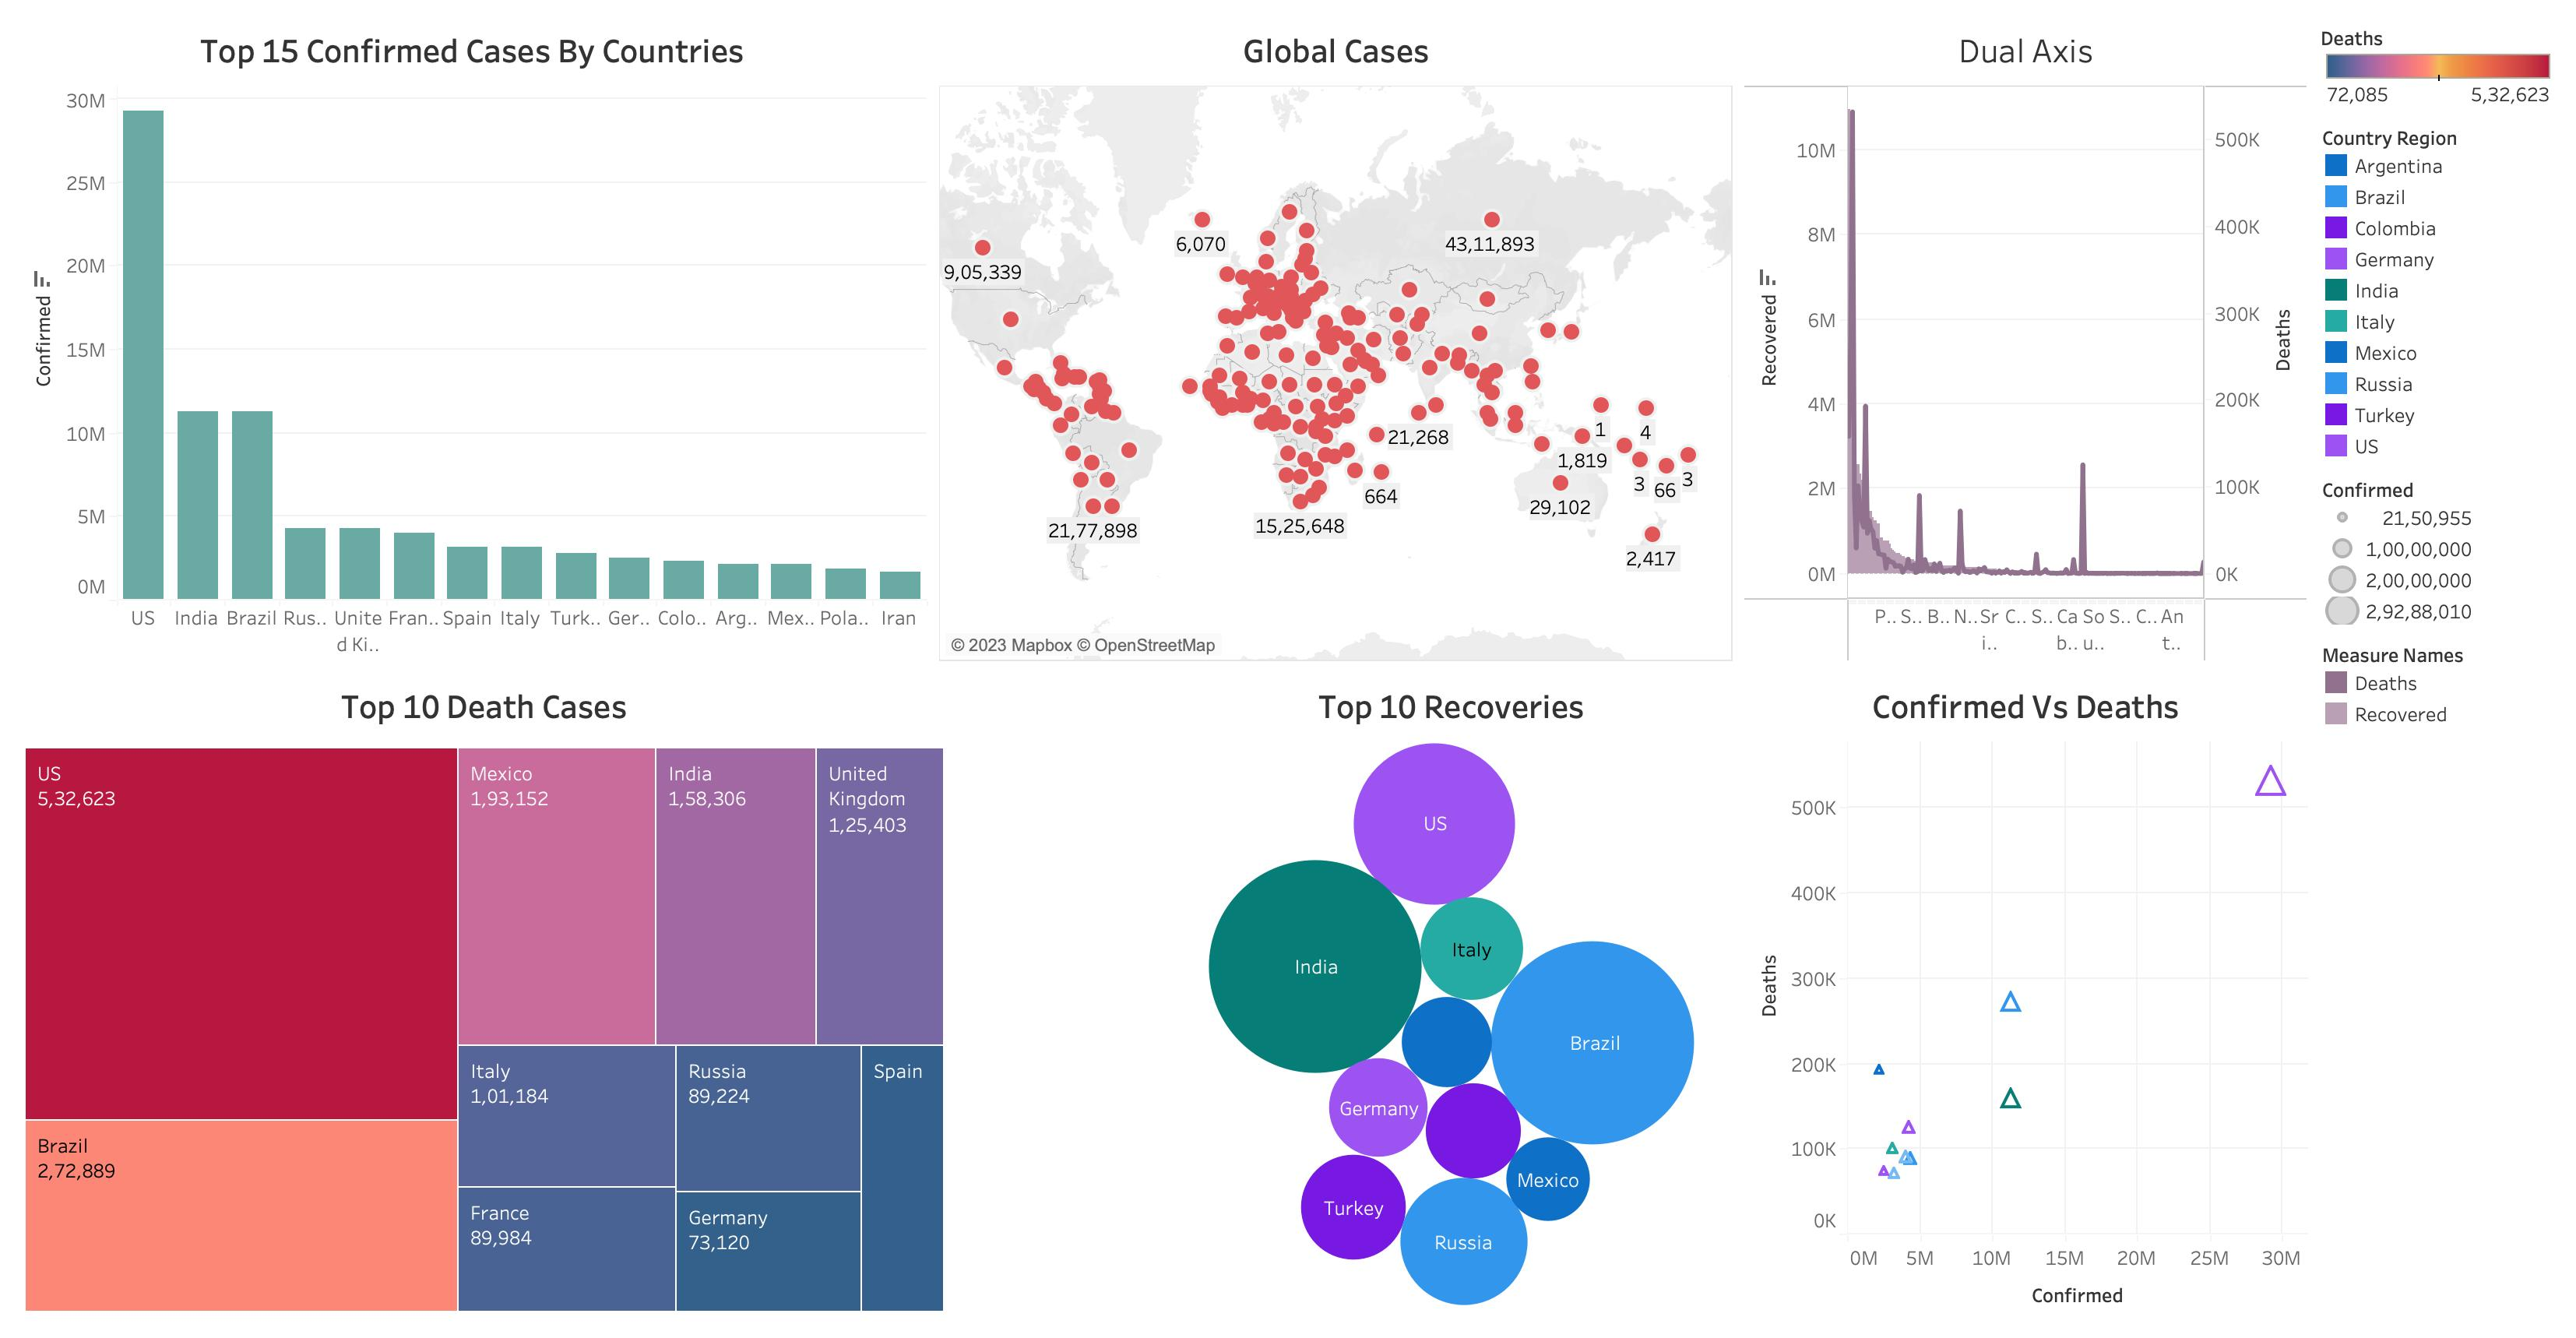

Layout of this report page (visuals, bound fields, positions):
{"tool":"tableau","page":{"name":"Dashboard 1","canvas":[1000,1000],"units":"permille","ordinal":0},"visuals":[{"type":"worksheet","title":"Top 15 Confirmed Cases By Countries","mark":"Automatic","rows":["Confirmed"],"cols":["Country Region"],"box":[4.8,9.3,357.3,490.7]},{"type":"worksheet","title":"Global Cases","mark":"Automatic","box":[362.1,9.3,312.9,490.7]},{"type":"worksheet","title":"Dual Axis","mark":"Line","rows":["Recovered","Deaths"],"cols":["Country Region"],"box":[675,9.3,223.4,490.7]},{"type":"legend","title":"Top 10 Death Cases","param":"[federated.0nfhav30ayvkzn19kb86j0pejryx].[sum:Deaths:qk]","box":[898.4,9.3,96.7,75.7]},{"type":"legend","title":"Recovery Cases","param":"[federated.0nfhav30ayvkzn19kb86j0pejryx].[none:Country Region:nk]","box":[898.4,85,96.7,263.1]},{"type":"legend","title":"Confirmed Vs Deaths","param":"[federated.0nfhav30ayvkzn19kb86j0pejryx].[sum:Confirmed:qk]","box":[898.4,348.1,96.7,123.4]},{"type":"legend","title":"Dual Axis","param":"[federated.0nfhav30ayvkzn19kb86j0pejryx].[:Measure Names]","box":[898.4,471.5,96.7,76.8]},{"type":"worksheet","title":"Top 10 Death Cases","mark":"Automatic","box":[4.8,500,402.7,490.7]},{"type":"worksheet","title":"Recovery Cases","mark":"Circle","box":[407.5,500,267.5,490.7]},{"type":"worksheet","title":"Confirmed Vs Deaths","mark":"Automatic","rows":["Deaths"],"cols":["Confirmed"],"box":[675,500,223.4,490.7]}]}

Visuals, with their boxes on the dashboard's canvas, which has no fixed pixel size, in thousandths of its width and height (x1, y1, x2, y2). These are canvas units, not pixel positions in the 2576x1338 screenshot, which may show the page scaled, cropped or inside an application window:
"Top 15 Confirmed Cases By Countries" worksheet: 5/9/362/500
"Global Cases" worksheet: 362/9/675/500
"Dual Axis" worksheet (Line marks): 675/9/898/500
"Top 10 Death Cases" legend: 898/9/995/85
"Recovery Cases" legend: 898/85/995/348
"Confirmed Vs Deaths" legend: 898/348/995/472
"Dual Axis" legend: 898/472/995/548
"Top 10 Death Cases" worksheet: 5/500/408/991
"Recovery Cases" worksheet (Circle marks): 408/500/675/991
"Confirmed Vs Deaths" worksheet: 675/500/898/991
